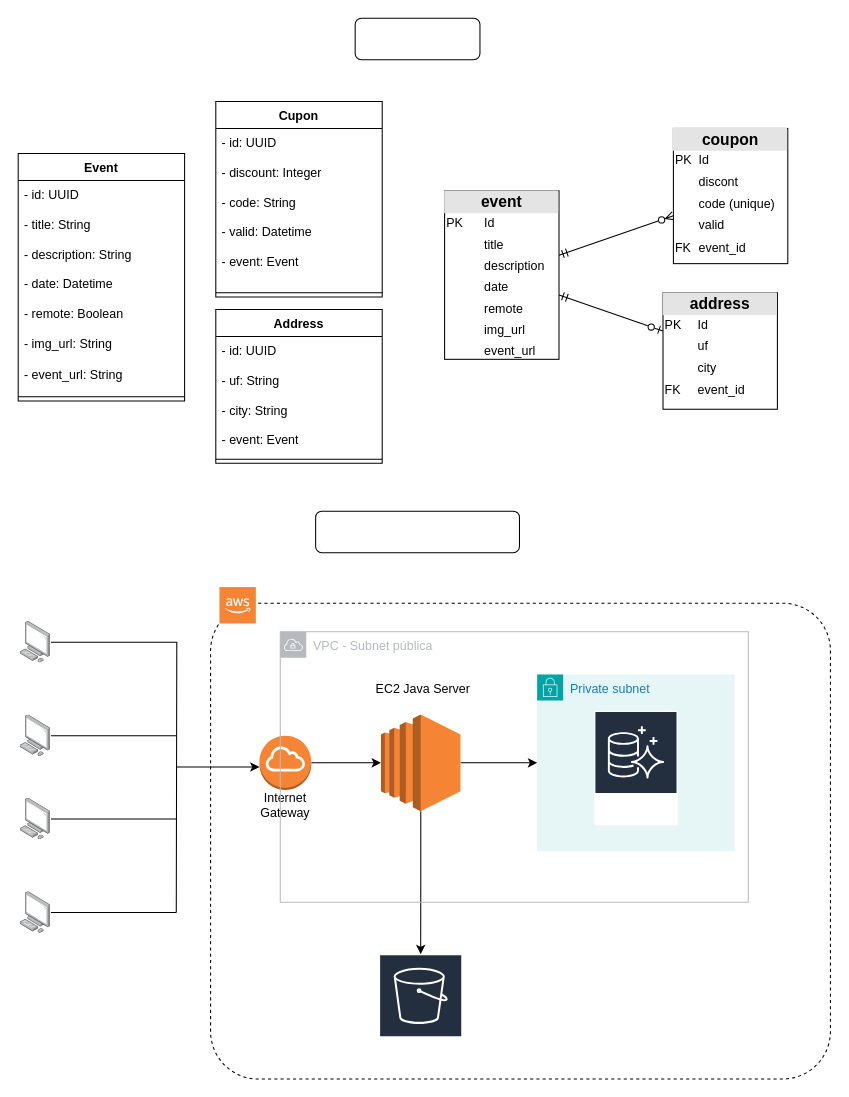
Image size: 849x1097. Some labels were removed from this diagram. Each missing label, with the centre of its shape:
Amazon Aurora: pixel 635 767
Amazon S3: pixel 420 1005
Desenho de solução: pixel 417 531
Modelagem: pixel 417 38
